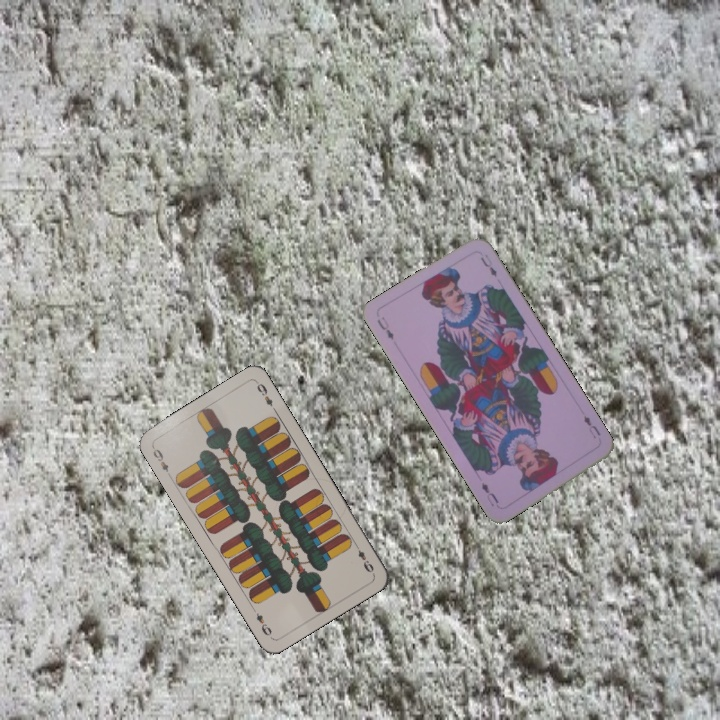E9: (148, 442, 174, 479), (350, 540, 376, 575)
EU: (579, 411, 603, 441), (373, 312, 396, 343)
